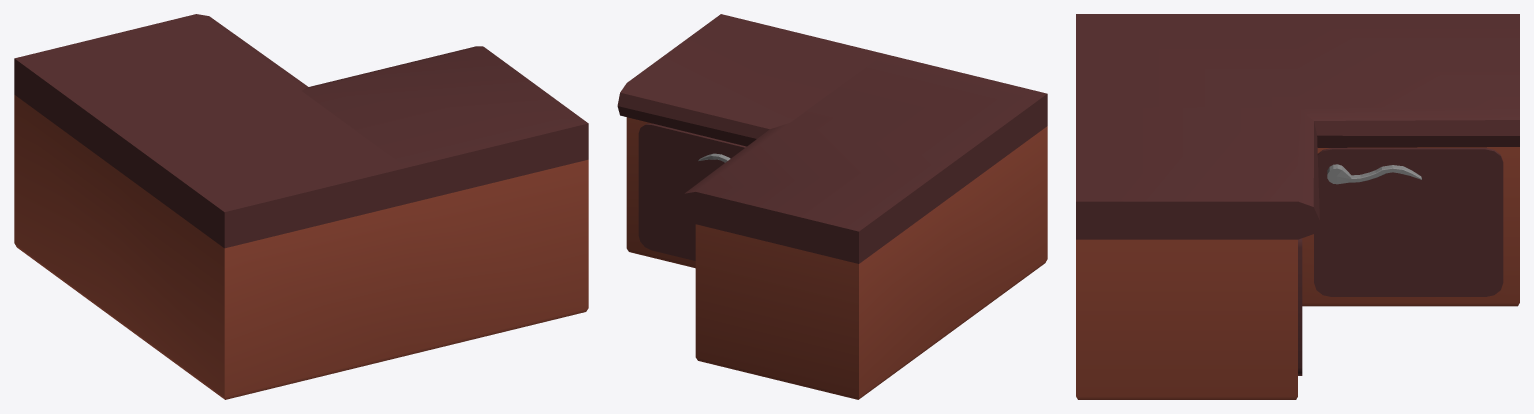
Rendered from corner counter with color.fbx.
The picture shows the model from 3 angles, left to right: view 1: azimuth 30°, elevation 25°; view 2: azimuth 150°, elevation 25°; view 3: azimuth 270°, elevation 25°; orthographic projection. The views are drawn at different scales.
Visible parts, largest first — view 1: counter base.001; view 2: counter base.001, cabinet.004; view 3: counter base.001, cabinet.003, handel.003, cabinet.004.
Part boxes in pixels (left/top/right/bottom): counter base.001: left=14, top=14, right=588, bottom=399; counter base.001: left=617, top=14, right=1047, bottom=399; cabinet.004: left=638, top=123, right=746, bottom=260; counter base.001: left=1076, top=14, right=1519, bottom=399; cabinet.003: left=1314, top=148, right=1503, bottom=296; handel.003: left=1327, top=164, right=1421, bottom=184; cabinet.004: left=1298, top=238, right=1302, bottom=375.
Size of the model in its own units: 200 by 99.96 by 200.
